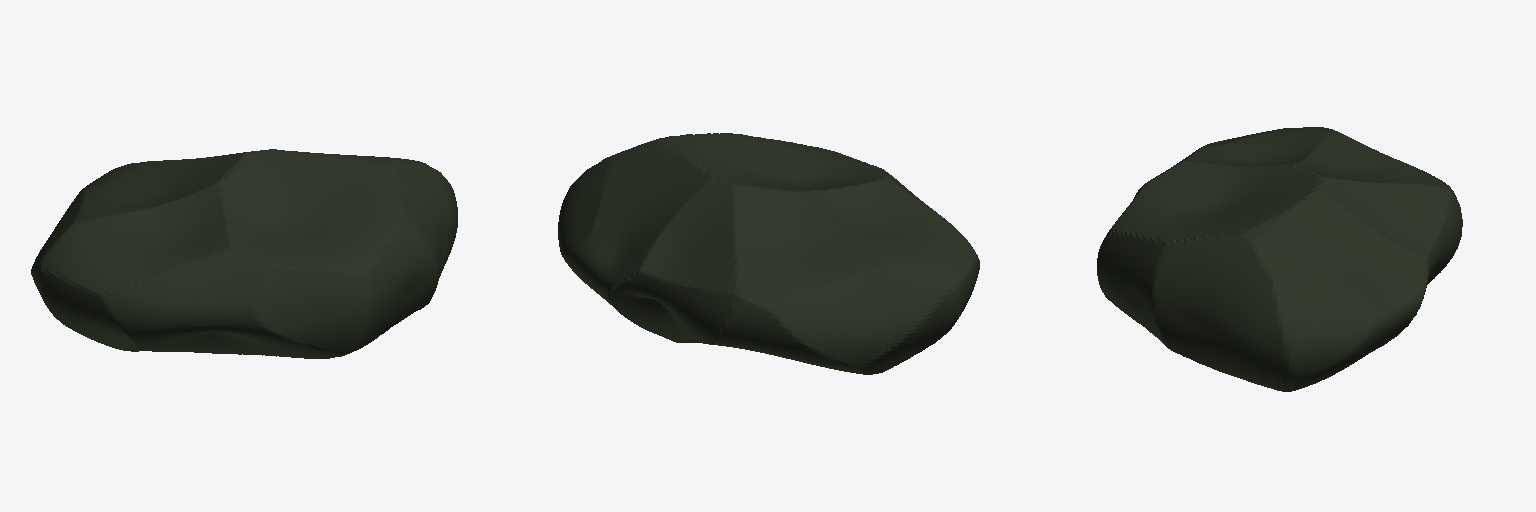
The model's file is Stein2.obj.
The picture shows the model from 3 angles: view 1: azimuth 30°, elevation 25°; view 2: azimuth 150°, elevation 25°; view 3: azimuth 270°, elevation 25°; orthographic projection.
Visible parts, largest first — view 1: Kugel; view 2: Kugel; view 3: Kugel.
Boxes of the visible parts, x1=… form: Kugel: x1=31, y1=149, x2=457, y2=358; Kugel: x1=558, y1=133, x2=979, y2=374; Kugel: x1=1097, y1=127, x2=1462, y2=391.
Bounding box in the file's own units: 77.29 × 30.85 × 60.51.